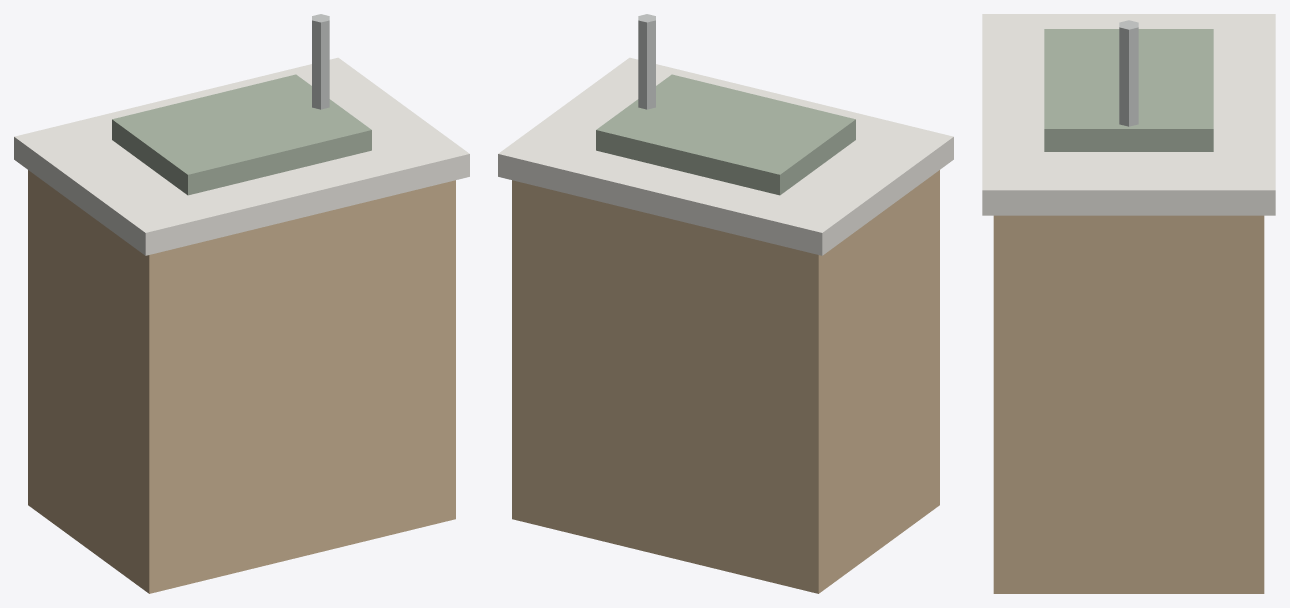
The model's file is sink.glb.
3 views of the same model, side by side, from view 1: azimuth 30°, elevation 25°; view 2: azimuth 150°, elevation 25°; view 3: azimuth 270°, elevation 25° (orthographic). The views are drawn at different scales.
Visible parts, largest first — view 1: root; view 2: root; view 3: root.
Boxes of the visible parts, <box> form: root: <box>14,14,469,593</box>; root: <box>498,14,953,593</box>; root: <box>982,14,1275,593</box>.
Bounding box in the file's own units: 0.74 × 1.03 × 0.52.
